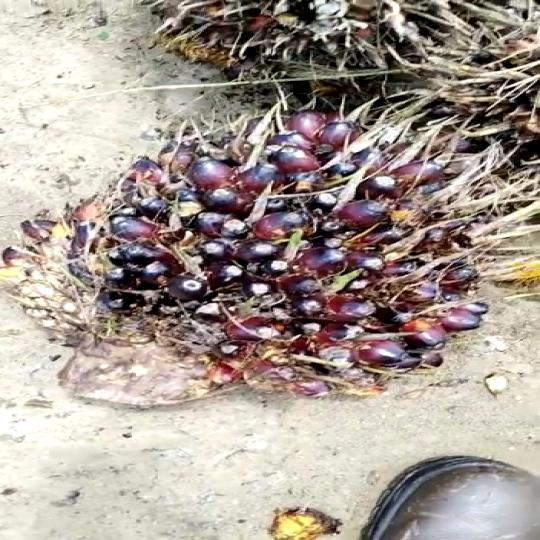masak: (1, 100, 521, 420)
